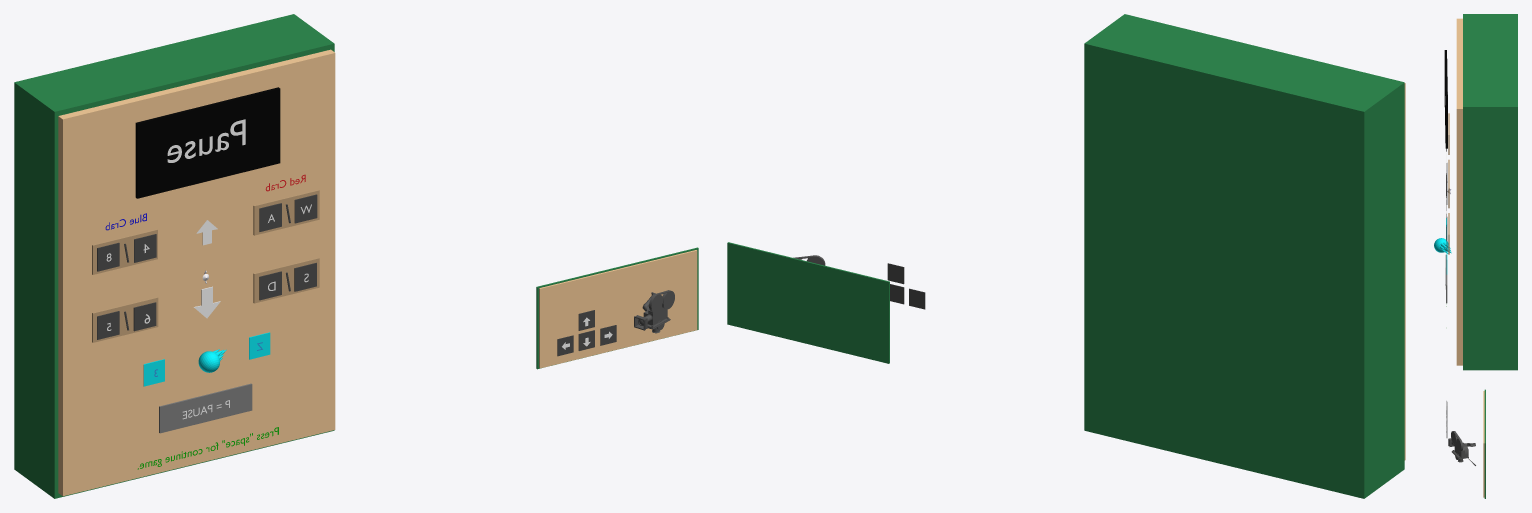
The model's file is MenuPause.glb.
3 renders of one model, left to right at view 1: azimuth 30°, elevation 25°; view 2: azimuth 150°, elevation 25°; view 3: azimuth 270°, elevation 25°, orthographic. The views are drawn at different scales.
Visible parts, largest first — view 1: Cube.002, Cube.003, Cube.010, Cube, Cube.001, rivetTR, Cube.005, Cube.004, Cube.007, Cube.006, Cube.011, PauseTitre; view 2: Cube.003, Cube.011, Cube.002; view 3: Cube.003, Cube.002, rivetTR, Cube, Cube.011, Cube.010, crabmehameha.
Boxes of the visible parts, bbox=[...] form: Cube.002: bbox=[58, 49, 335, 496]; Cube.003: bbox=[14, 14, 334, 498]; Cube.010: bbox=[539, 250, 697, 368]; Cube: bbox=[135, 87, 280, 198]; Cube.001: bbox=[159, 383, 252, 433]; rivetTR: bbox=[634, 290, 674, 333]; Cube.005: bbox=[253, 189, 319, 235]; Cube.004: bbox=[253, 257, 319, 303]; Cube.007: bbox=[92, 297, 158, 342]; Cube.006: bbox=[92, 229, 157, 274]; Cube.011: bbox=[536, 247, 698, 369]; PauseTitre: bbox=[167, 119, 245, 162]; Cube.003: bbox=[1084, 14, 1404, 498]; Cube.011: bbox=[727, 242, 889, 363]; Cube.002: bbox=[1404, 83, 1405, 460]; Cube.003: bbox=[1463, 14, 1517, 370]; Cube.002: bbox=[1456, 18, 1462, 365]; rivetTR: bbox=[1448, 431, 1475, 465]; Cube: bbox=[1444, 50, 1447, 148]; Cube.011: bbox=[1484, 389, 1485, 498]; Cube.010: bbox=[1483, 391, 1484, 497]; crabmehameha: bbox=[1434, 238, 1451, 253].
Bounding box in the file's own units: 62.82 × 35.53 × 10.15.
